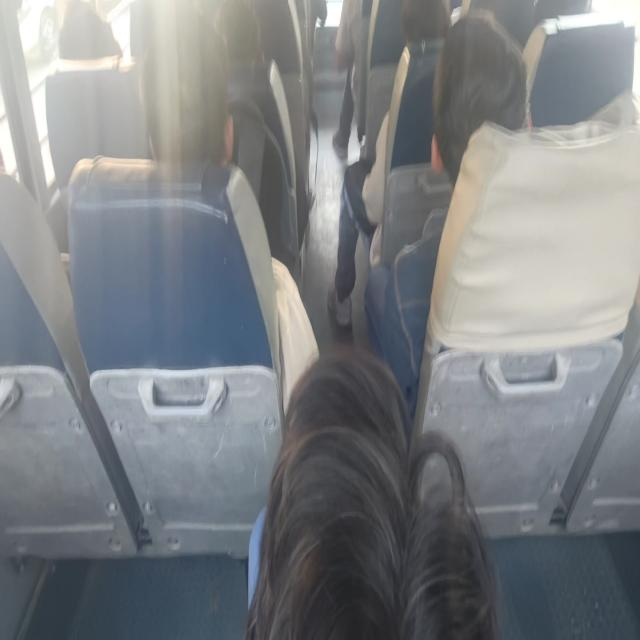person: (256, 357, 488, 640), (430, 22, 527, 176), (144, 27, 230, 177), (62, 2, 123, 59), (204, 0, 262, 59), (398, 0, 452, 58)
